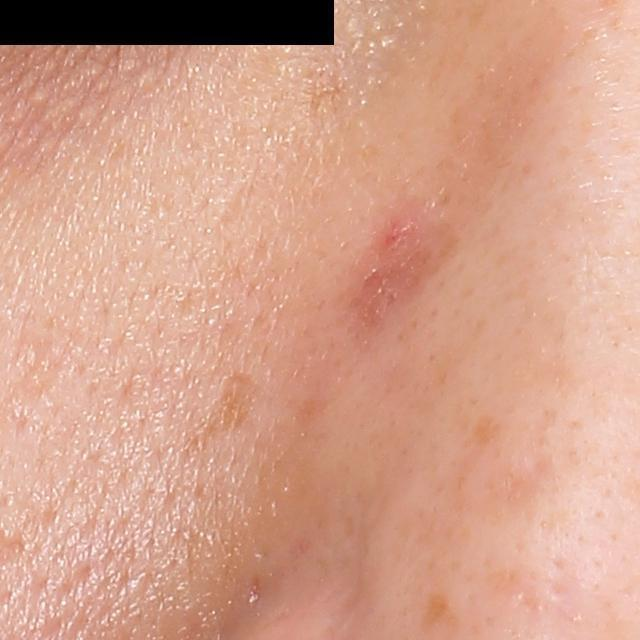melasma: (174, 375, 262, 463), (466, 399, 509, 456), (419, 595, 463, 638)
